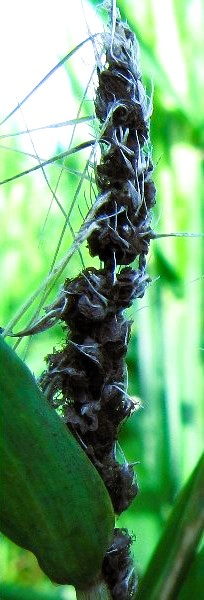Wheat Loose Smut: (39, 23, 171, 387)
